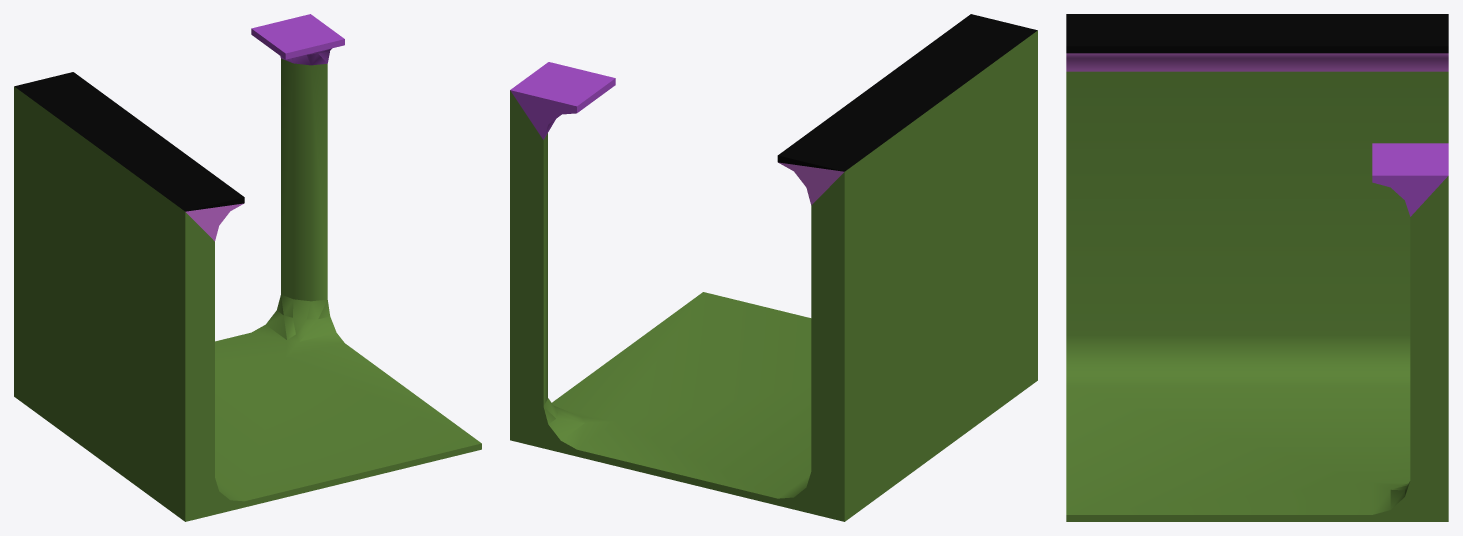
Rendered from Tileset_29.fbx.
3 renders of one model, left to right at view 1: azimuth 30°, elevation 25°; view 2: azimuth 150°, elevation 25°; view 3: azimuth 270°, elevation 25°, orthographic. The views are drawn at different scales.
Visible parts, largest first — view 1: Tileset_29; view 2: Tileset_29; view 3: Tileset_29.
Boxes of the visible parts, box(x1,y1,x2,y2) form: Tileset_29: box(14, 14, 481, 521); Tileset_29: box(510, 14, 1037, 521); Tileset_29: box(1066, 14, 1448, 521).
Bounding box in the file's own units: 100 × 100 × 100.
